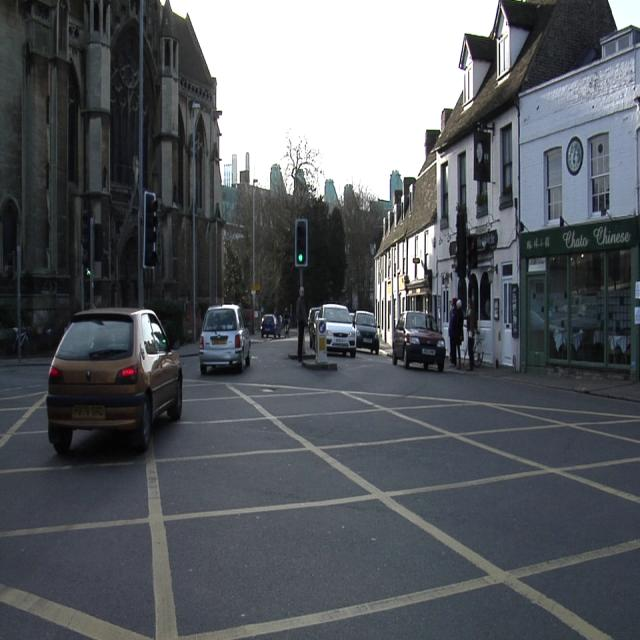Building: (375, 0, 615, 367), (0, 0, 141, 342), (520, 27, 640, 380), (142, 0, 222, 324)
Car: (46, 308, 182, 452), (199, 307, 250, 374), (392, 312, 445, 372), (319, 305, 356, 358), (354, 310, 379, 354), (261, 315, 281, 338)
Road: (0, 338, 640, 638)
Tree: (282, 135, 322, 196)
